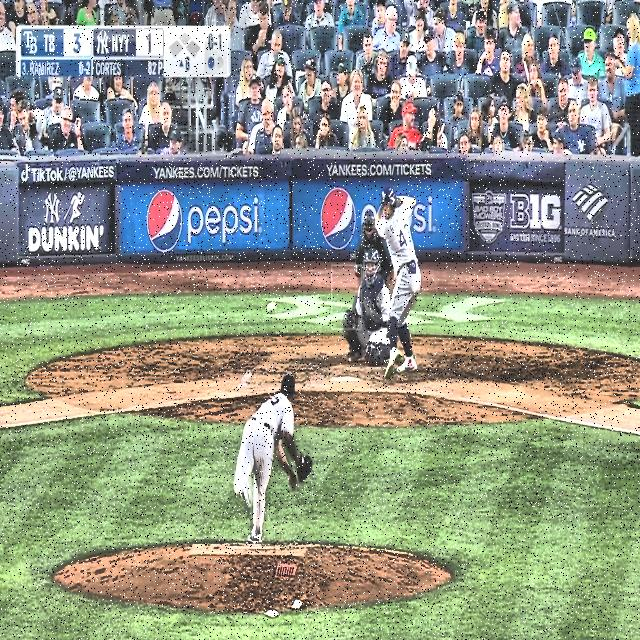baseball: (266, 301, 276, 313)
